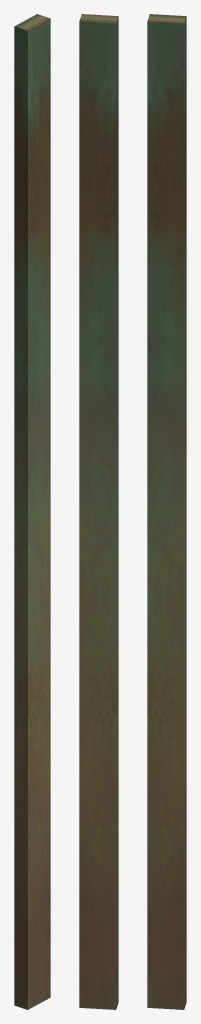
File: GH_1_ColL_2.gltf
3 views of the same model, side by side, from view 1: azimuth 30°, elevation 25°; view 2: azimuth 150°, elevation 25°; view 3: azimuth 330°, elevation 25° (orthographic).
Visible parts, largest first — view 1: GH_1_ColL_2; view 2: GH_1_ColL_2; view 3: GH_1_ColL_2.
Boxes of the visible parts, bbox=[...] form: GH_1_ColL_2: bbox=[14, 14, 50, 1009]; GH_1_ColL_2: bbox=[79, 14, 118, 1009]; GH_1_ColL_2: bbox=[147, 14, 186, 1009].
Size of the model in its own units: 0.2571 by 6.85 by 0.1884.
1 material, 1 textured.
